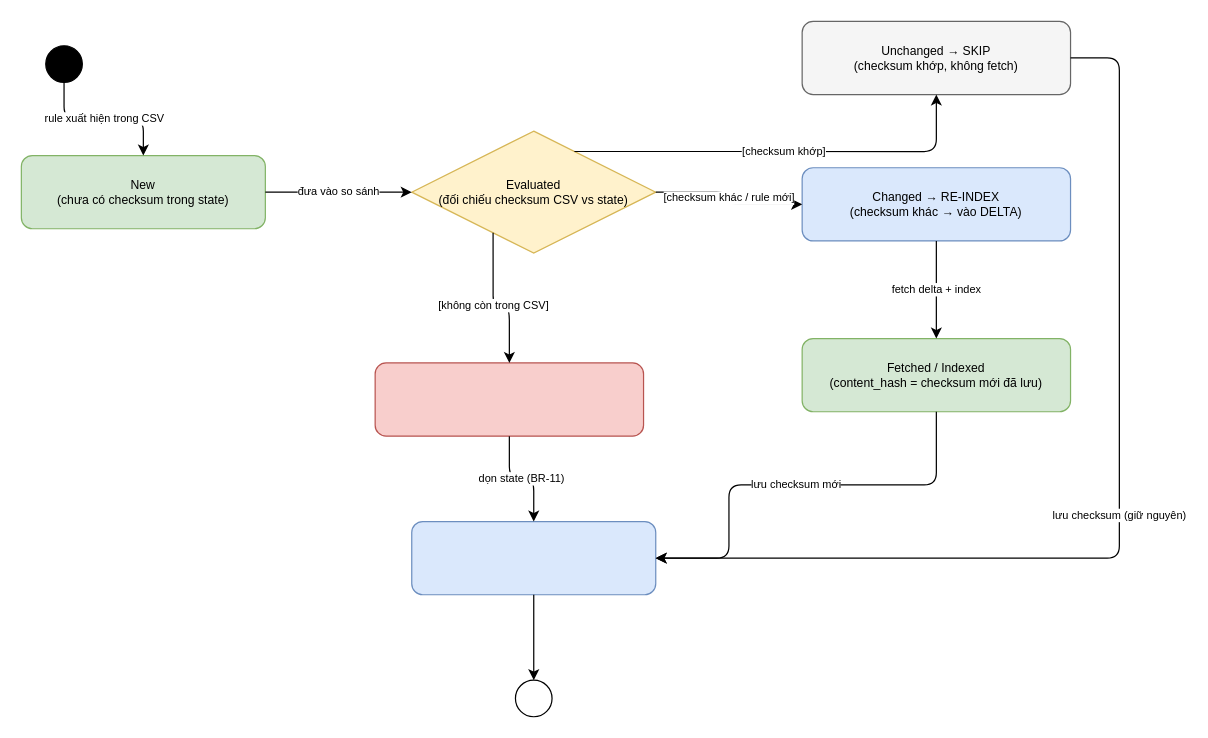
This 1208x738 diagram has some shape labels left out. Here are the shapes that lost their labels. From the top down, the centre of each, then its label:
(509,399): Removed (còn trong state, không còn trong CSV)
(533,557): State Persisted (sẵn sàng cho lần chạy sau)
